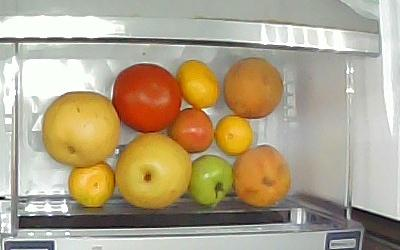peach: (225, 58, 285, 120), (232, 145, 292, 206)
pear: (41, 92, 121, 165), (116, 134, 191, 209)
tangerine: (69, 161, 114, 208), (177, 60, 219, 108), (217, 114, 254, 157)
tomato: (113, 64, 181, 133), (190, 154, 236, 204), (170, 108, 212, 153)
